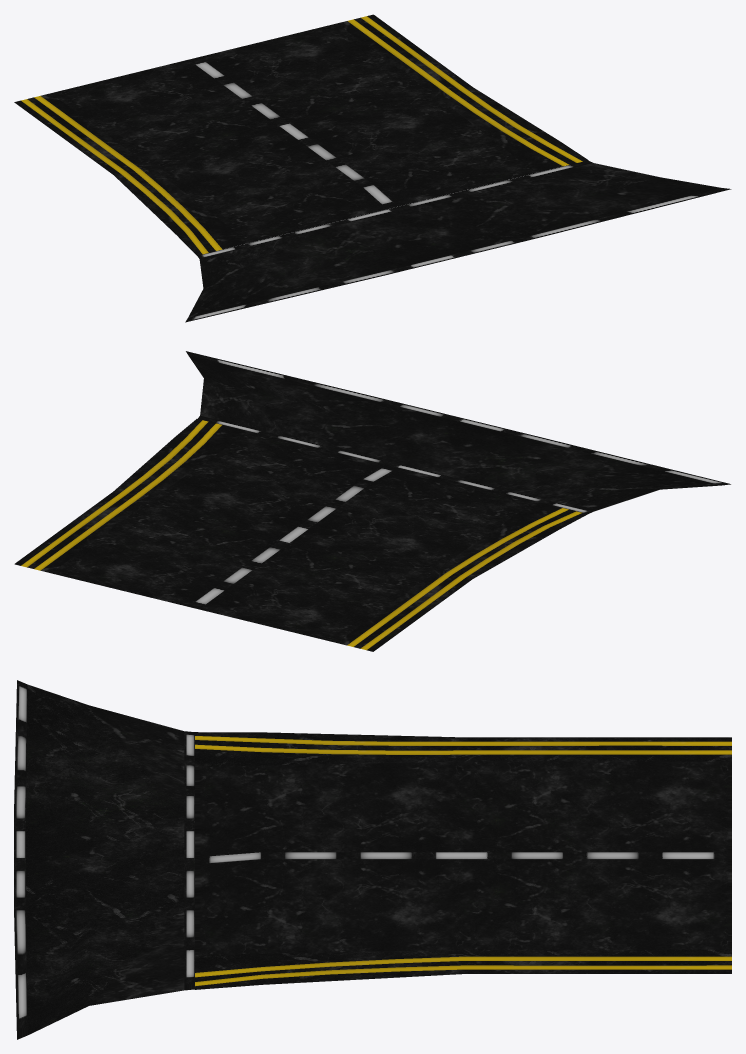
File: RoadLaneTurn_Vertical.fbx
3 views of the same model, one above another, from view 1: azimuth 30°, elevation 25°; view 2: azimuth 150°, elevation 25°; view 3: azimuth 270°, elevation 25° (orthographic). The views are drawn at different scales.
Parts seen in each view (by area): view 1: RoadLaneLeft, RoadLaneRight, PedestrianRoad, DottedLines; view 2: RoadLaneLeft, RoadLaneRight, PedestrianRoad, DottedLines; view 3: RoadLaneRight, RoadLaneLeft, PedestrianRoad, DottedLines.
Boxes of the visible parts, x1,y1,x2,y2 form: RoadLaneLeft: [14, 59, 387, 255]; RoadLaneRight: [199, 14, 588, 206]; PedestrianRoad: [185, 160, 731, 322]; DottedLines: [189, 57, 397, 208]; RoadLaneLeft: [199, 468, 587, 651]; RoadLaneRight: [14, 419, 386, 606]; PedestrianRoad: [186, 351, 730, 513]; DottedLines: [188, 465, 397, 609]; RoadLaneRight: [195, 859, 731, 989]; RoadLaneLeft: [195, 732, 731, 857]; PedestrianRoad: [14, 680, 194, 1039]; DottedLines: [195, 852, 731, 864].
Size of the model in its own units: 1112 by 7.67 by 938.
1 material, 1 textured.
